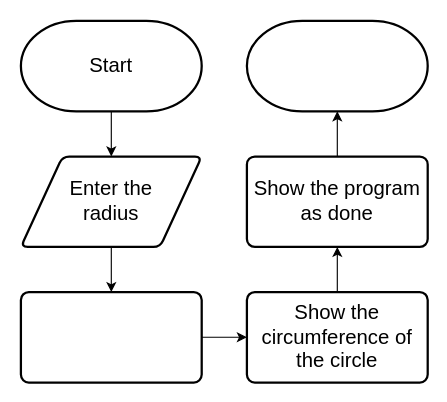
This 447x402 diagram has some shape labels left out. The shapes that lost their labels are listed below. From the top down, each one's centre as x and y in pixels, then its label:
At pixel 336 65: "Stop".
At pixel 110 336: "Set the circumference as tau times the radius".
